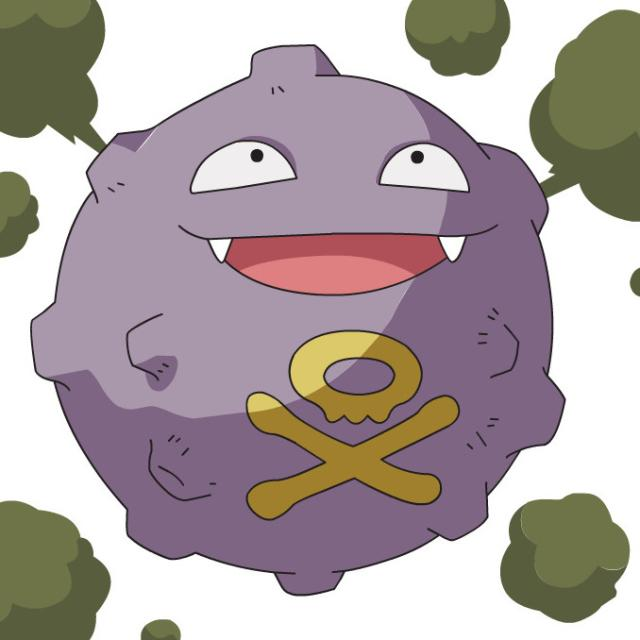Koffing: (37, 37, 591, 594)
